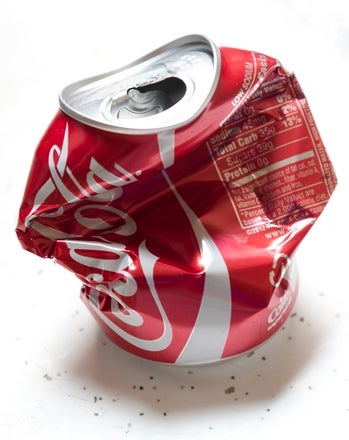can: (13, 31, 341, 367)
